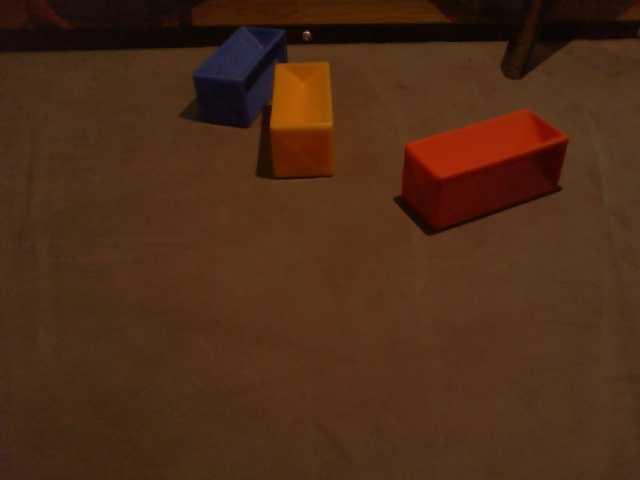BlueSample: (190, 25, 290, 128)
RedSample: (399, 110, 571, 231)
YellowSample: (268, 59, 338, 179)
